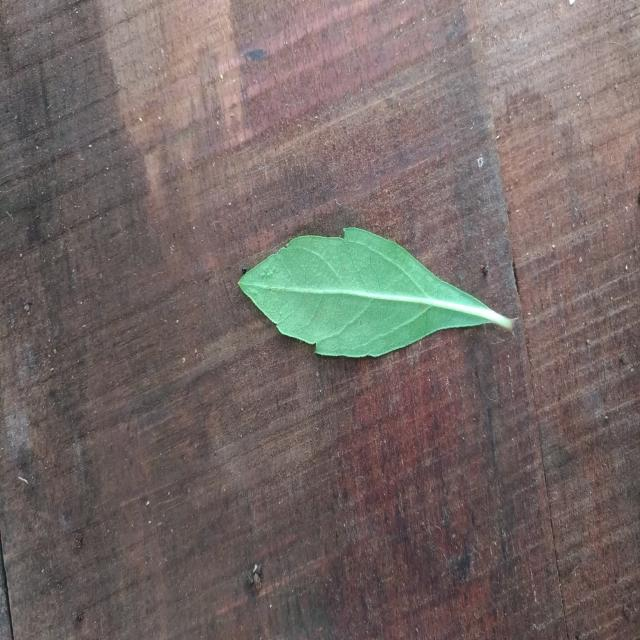bringaraja: (239, 227, 512, 358)
